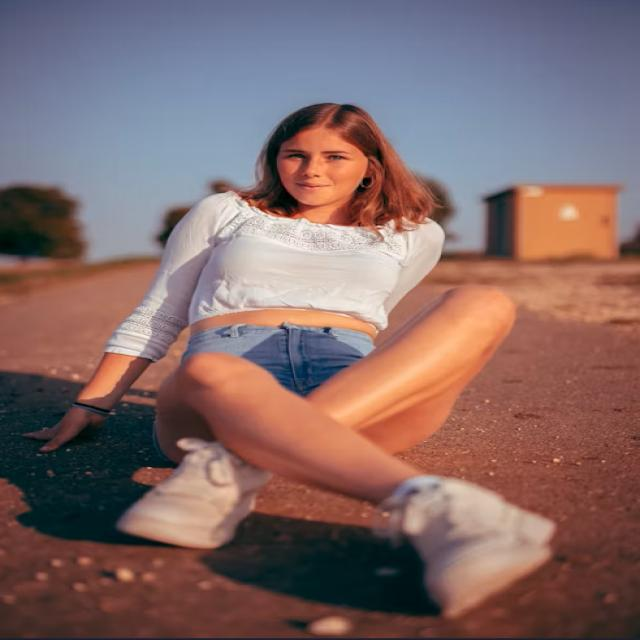Edited images: (50, 81, 584, 615)
